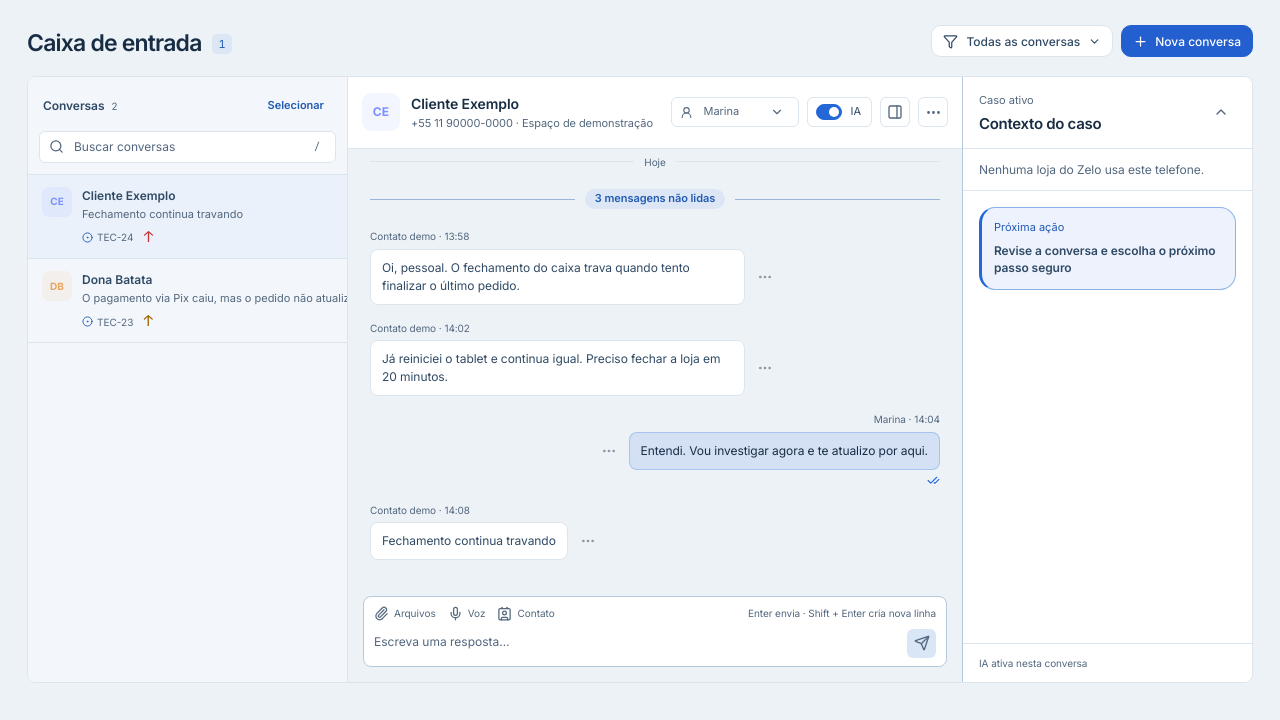
InboxPage new chat › deletes every selected conversation after one confirmation
(page scrolled)
Click the button "Selecionar".
click(296, 106)  # box [260, 92, 332, 120]
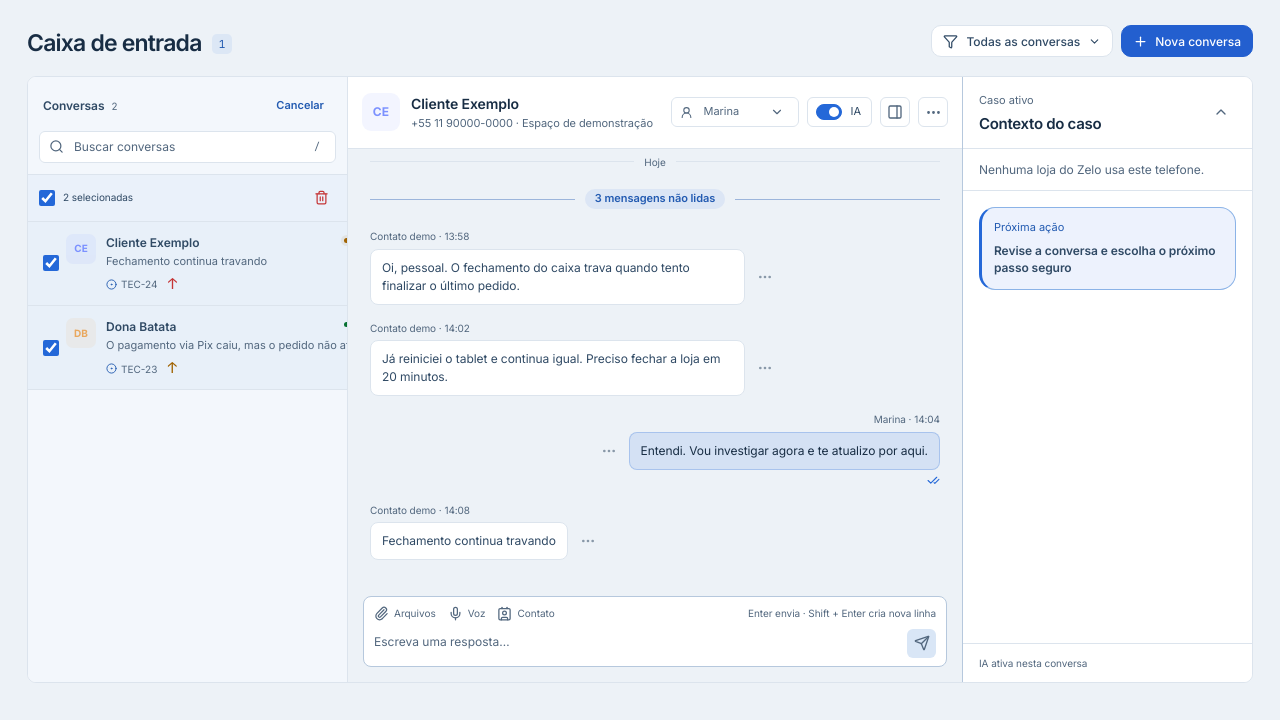
Click the button with class "inbox-bulk-delete".
click(321, 198)  # box [306, 183, 336, 213]
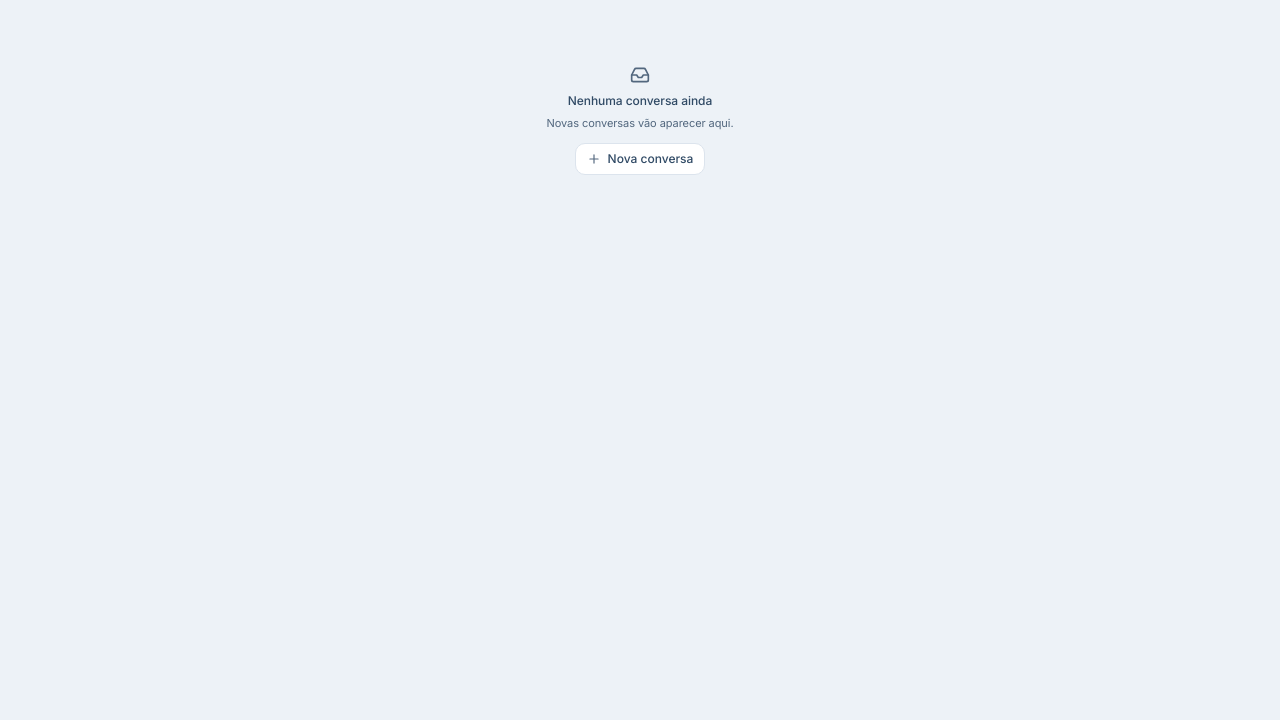
Expected: the text "Nenhuma conversa ainda" is shown, [568, 92, 712, 109]
